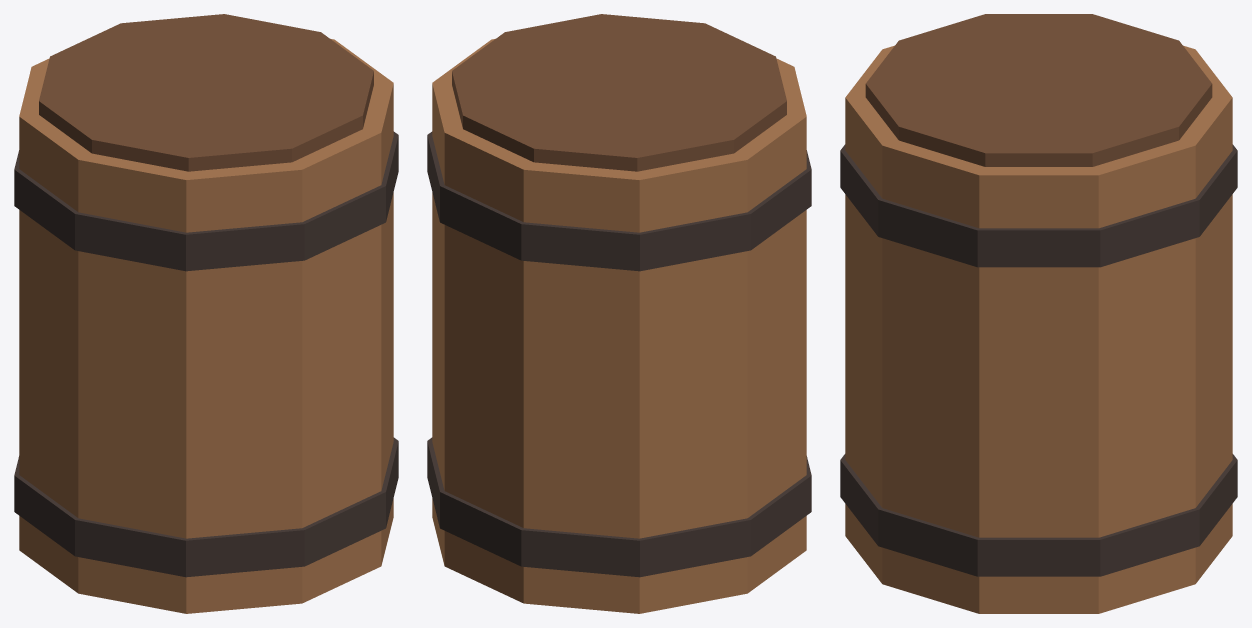
File: sud.glb
The picture shows the model from 3 angles, left to right: view 1: azimuth 30°, elevation 25°; view 2: azimuth 150°, elevation 25°; view 3: azimuth 270°, elevation 25°; orthographic projection.
Parts seen in each view (by area): view 1: material_ad7950, material_785239, material_483b36; view 2: material_ad7950, material_785239, material_483b36; view 3: material_ad7950, material_785239, material_483b36.
Part boxes in pixels (x1,y1,x2,y2): material_ad7950: [19, 39, 393, 613]; material_785239: [39, 14, 373, 171]; material_483b36: [14, 131, 398, 577]; material_ad7950: [432, 39, 806, 613]; material_785239: [452, 14, 786, 171]; material_483b36: [427, 131, 811, 577]; material_ad7950: [845, 45, 1232, 613]; material_785239: [865, 14, 1212, 166]; material_483b36: [840, 144, 1237, 576].
Bounding box in the file's own units: 0.7418 × 0.98 × 0.78.
